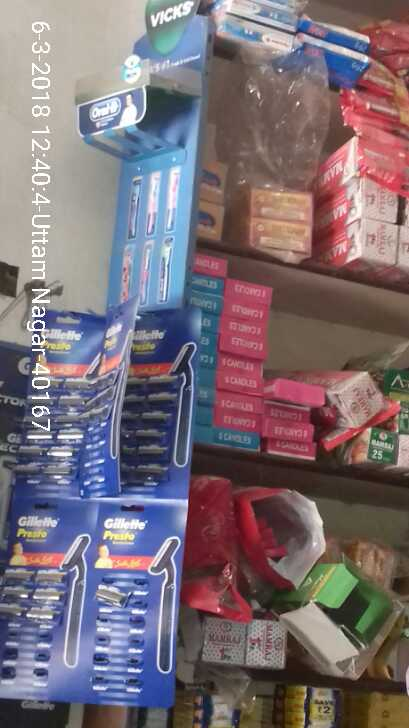gillette: (12, 355, 114, 498), (2, 557, 60, 689), (90, 572, 147, 700), (120, 365, 172, 497)
